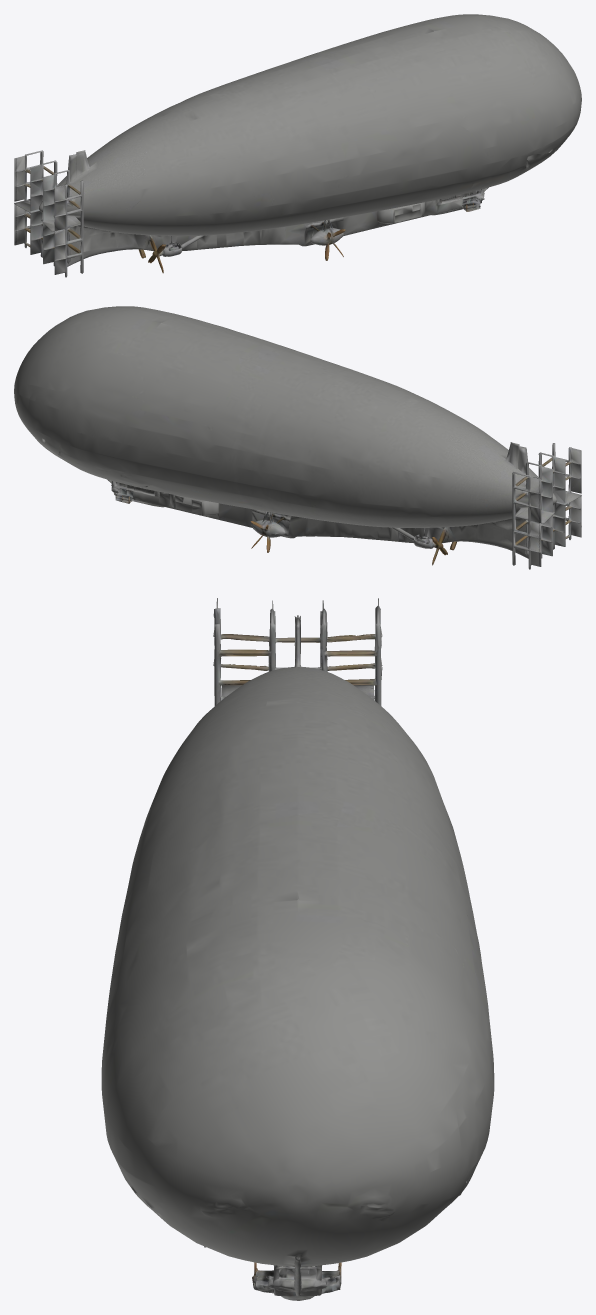
The model's file is opera02.glb.
The picture shows the model from 3 angles, top to bottom: view 1: azimuth 30°, elevation 25°; view 2: azimuth 150°, elevation 25°; view 3: azimuth 270°, elevation 25°; orthographic projection. The views are drawn at different scales.
Visible parts, largest first — view 1: tripo_node_887d060c-1560-40b7-9a21-eecd79bdec4b; view 2: tripo_node_887d060c-1560-40b7-9a21-eecd79bdec4b; view 3: tripo_node_887d060c-1560-40b7-9a21-eecd79bdec4b.
Part boxes in pixels (x1,y1,x2,y2): tripo_node_887d060c-1560-40b7-9a21-eecd79bdec4b: (14, 14, 581, 277); tripo_node_887d060c-1560-40b7-9a21-eecd79bdec4b: (14, 306, 581, 569); tripo_node_887d060c-1560-40b7-9a21-eecd79bdec4b: (101, 598, 494, 1300).
Size of the model in its own units: 0.9999 by 0.3264 by 0.3165.
Materials: 1 (1 with a texture image).
